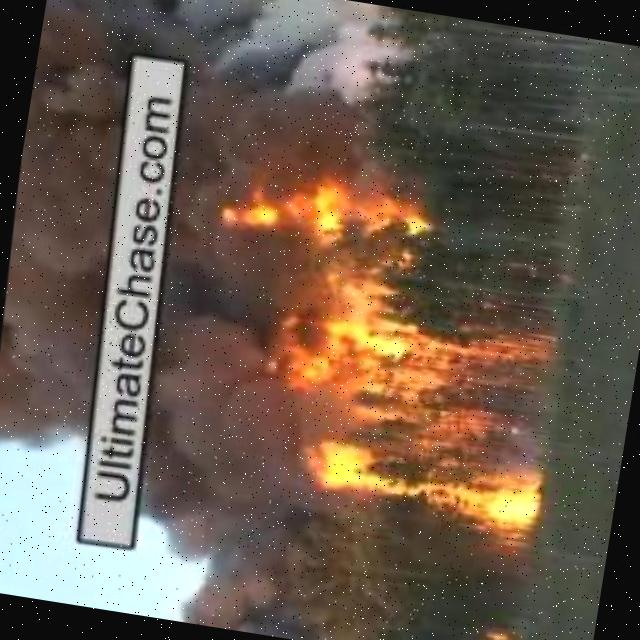fire: (259, 289, 553, 547), (203, 146, 430, 269), (478, 608, 521, 640)
